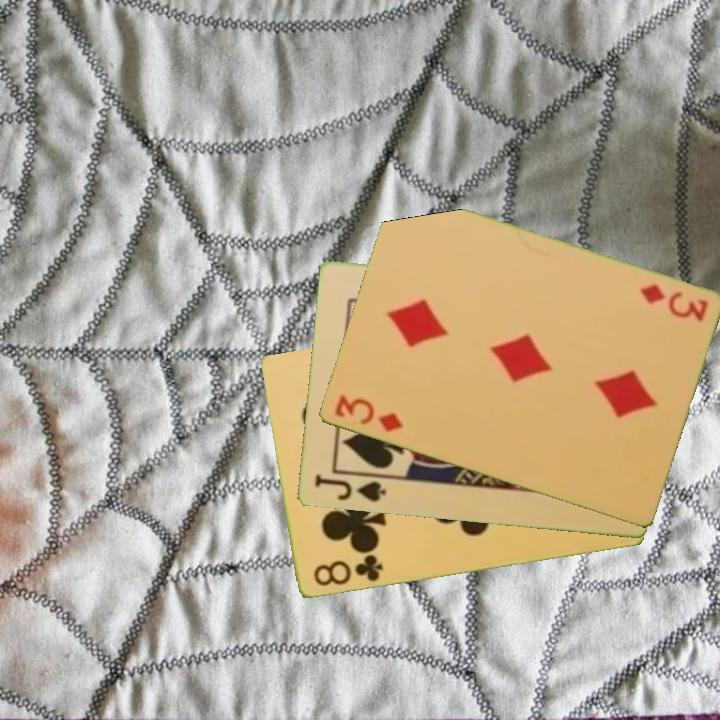3d: (331, 391, 406, 436), (636, 281, 710, 325)
8c: (309, 552, 385, 590)
Js: (311, 471, 389, 505)
